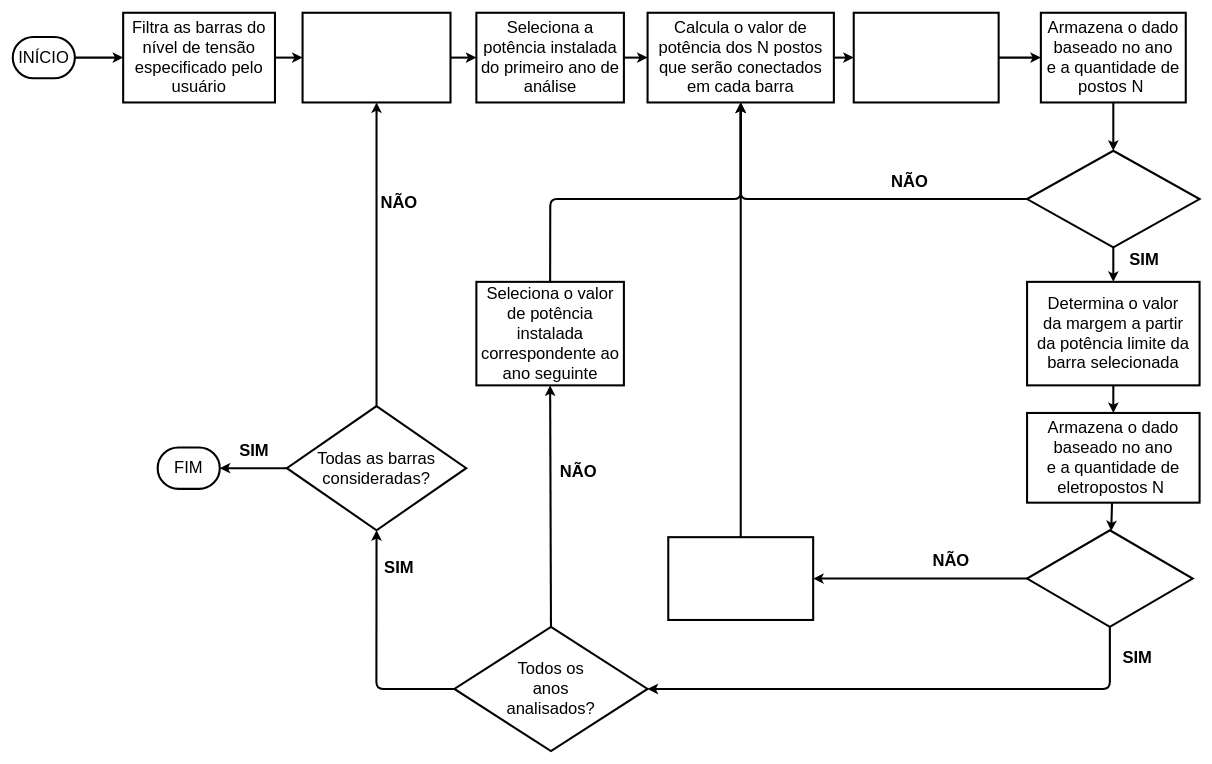
Some shapes in this 1212 by 764 pixel diagram are drawn without their labels. Here are the shapes that lost their labels. From the top down, the centre of each, then its label:
At (x=376, y=57): "Seleciona uma das barras filtradas".
At (x=925, y=57): "Calcula a potência total após a conexão dos N postos".
At (x=1113, y=198): "200 iterações?".
At (x=740, y=578): "Incrementa N em um".
At (x=1109, y=578): "N <= 10?".
